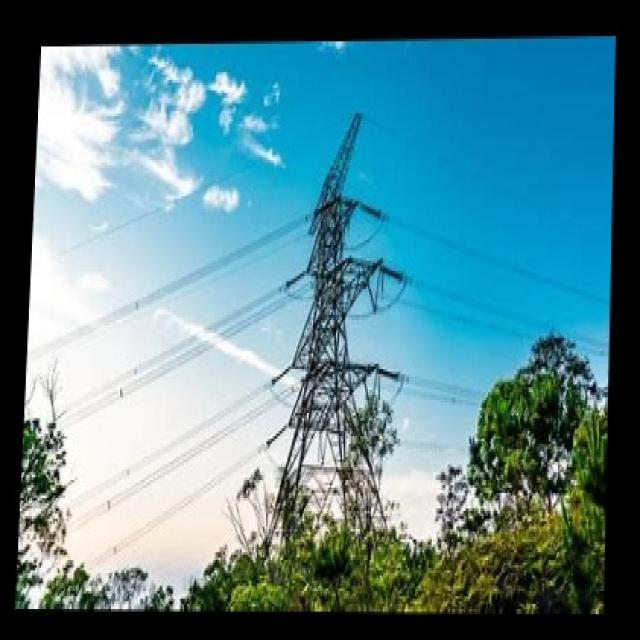utility poles: (458, 312, 602, 558), (276, 333, 409, 586)
